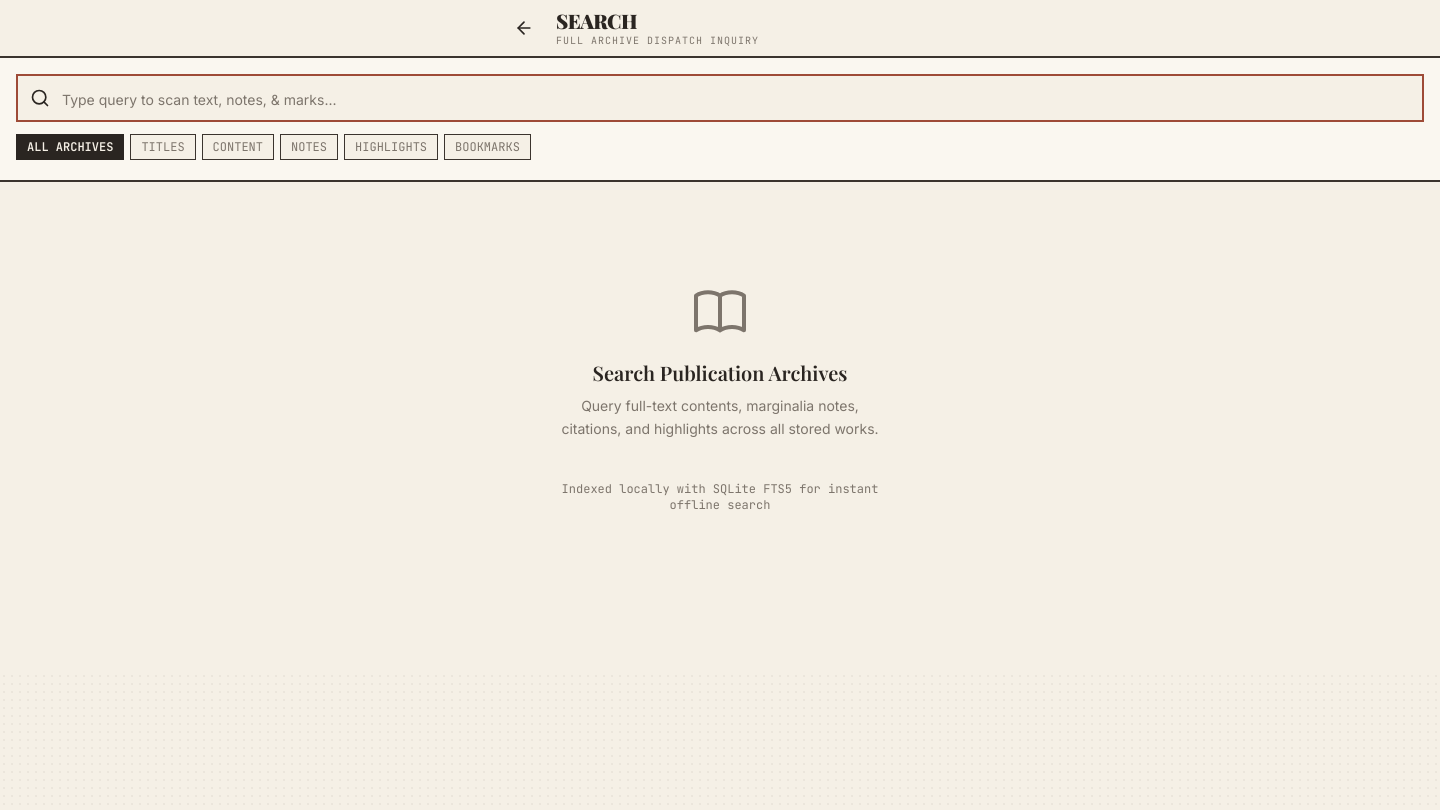
Test: SearchScreen component › renders empty state when query returns no results
Type "nonexistent term" into the search field with placeholder "Type query to scan text, notes, & marks..." at (720, 98), box [16, 74, 1424, 122]
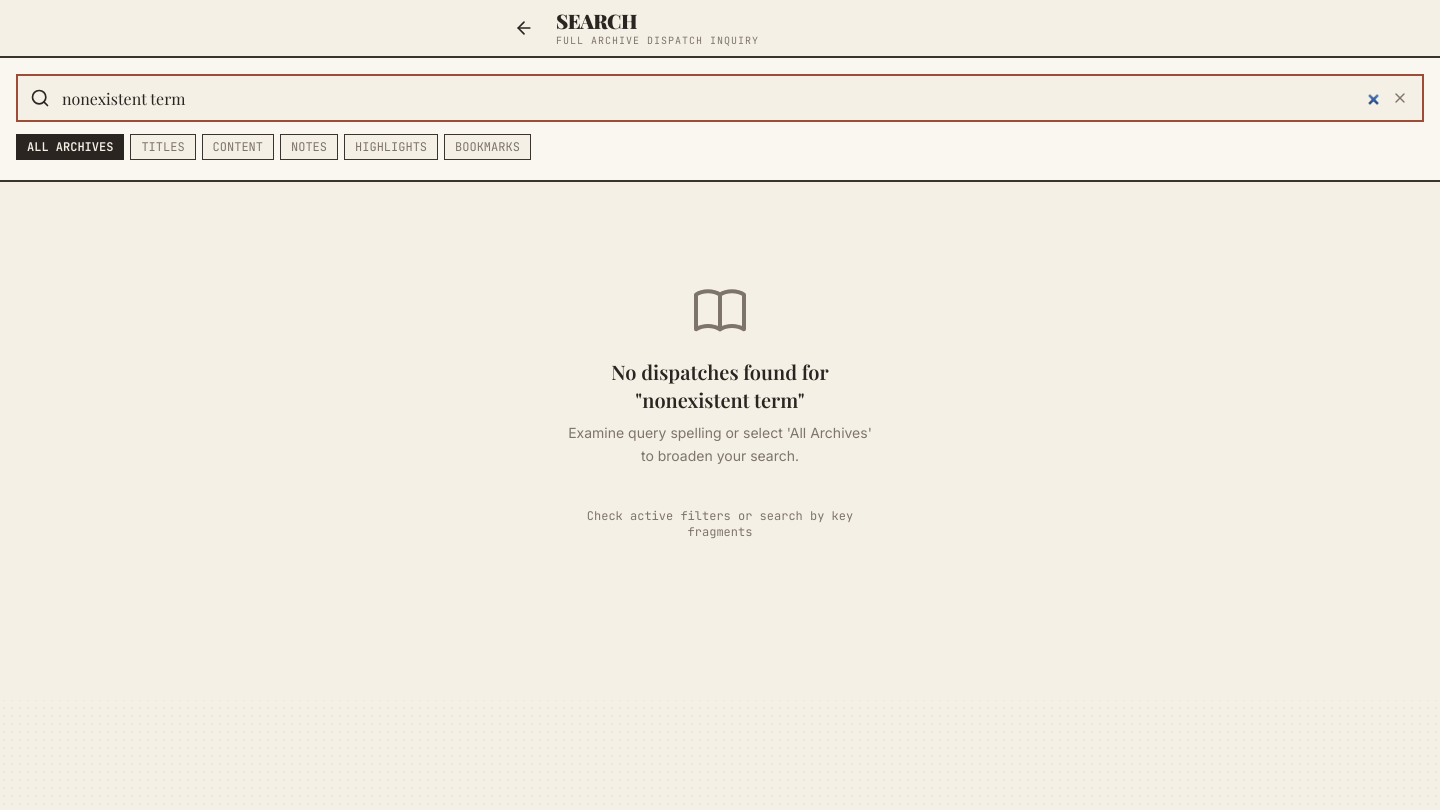
Result: the heading "No dispatches found for \"nonexistent term\"" is shown at [611, 358, 829, 413]
